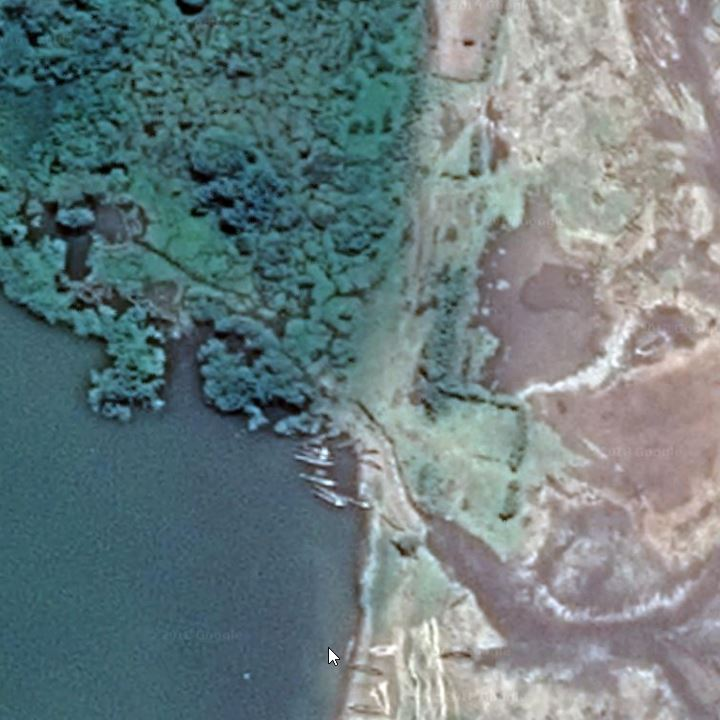boat: (335, 631, 361, 665), (345, 661, 389, 681), (311, 483, 347, 505), (341, 702, 388, 717), (292, 454, 338, 468), (299, 473, 340, 487), (310, 491, 343, 508), (340, 494, 372, 511), (291, 443, 332, 456), (354, 457, 385, 472), (335, 437, 362, 452), (359, 448, 383, 456)
